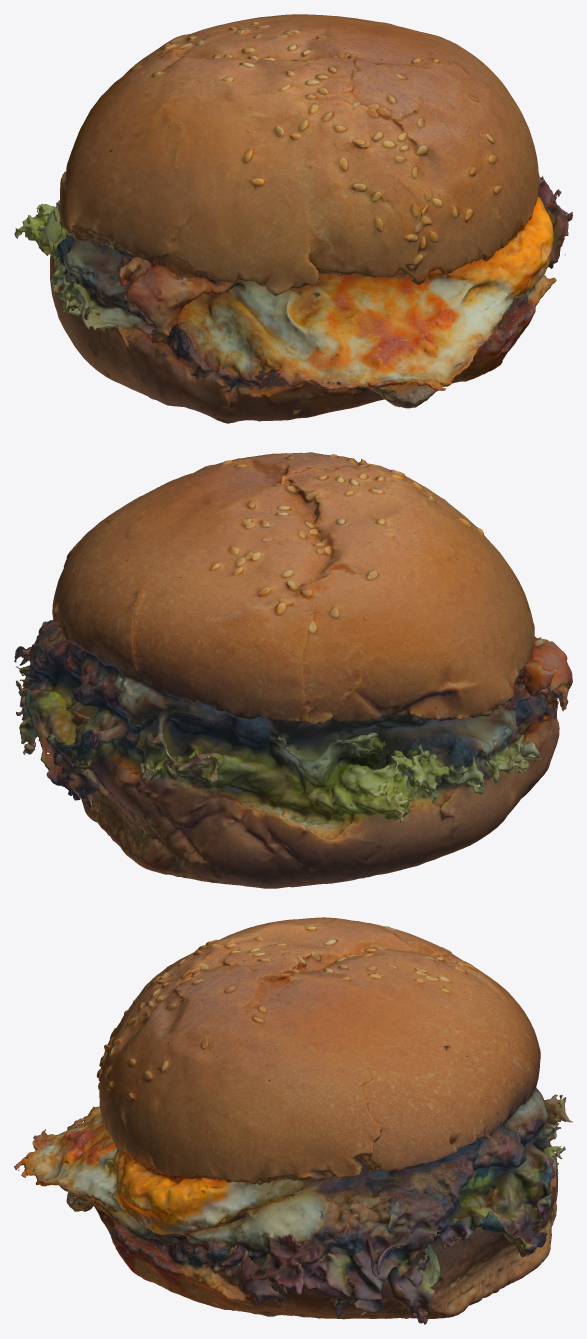
Rendered from burger-artesanal-8k-android.glb.
3 views of the same model, one above another, from view 1: azimuth 30°, elevation 25°; view 2: azimuth 150°, elevation 25°; view 3: azimuth 270°, elevation 25° (orthographic). The views are drawn at different scales.
Visible parts, largest first — view 1: Burger; view 2: Burger; view 3: Burger.
Boxes of the visible parts, left/top/right/bottom form: Burger: left=14, top=14, right=572, bottom=423; Burger: left=14, top=452, right=572, bottom=888; Burger: left=14, top=917, right=572, bottom=1324.
Bounding box in the file's own units: 0.1332 × 0.0781 × 0.1347.
Materials: 1 (1 with a texture image).
